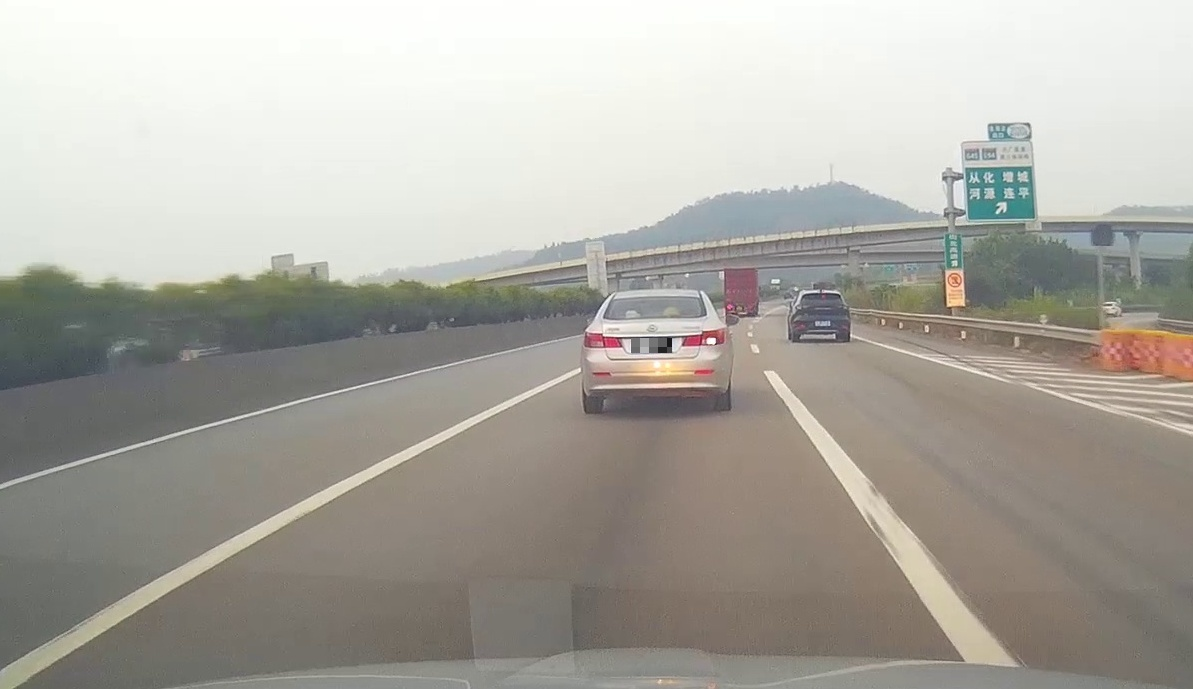L_light: (582, 330, 621, 348), (796, 305, 808, 310)
R_light: (681, 328, 725, 346), (838, 304, 848, 309)
T_light: (641, 297, 662, 303), (819, 294, 827, 296)
day-no: (789, 290, 851, 342)
day-right: (580, 289, 734, 414)
plate_1: (631, 338, 672, 353)
